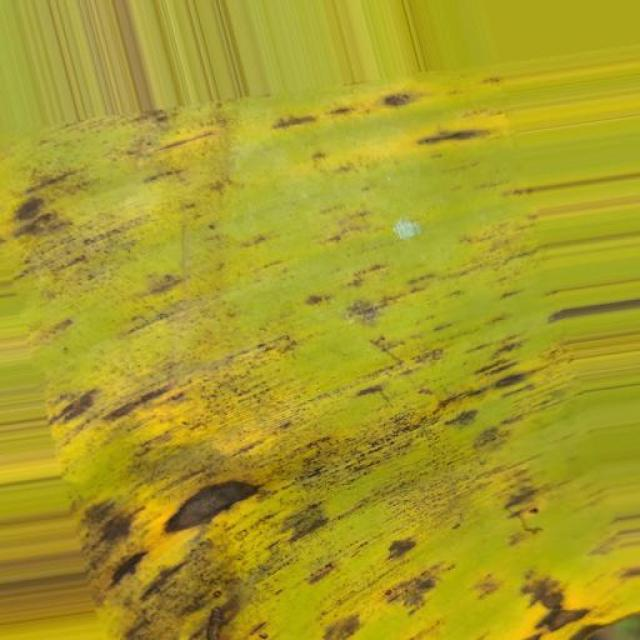Early_rust: (0, 79, 640, 640)
